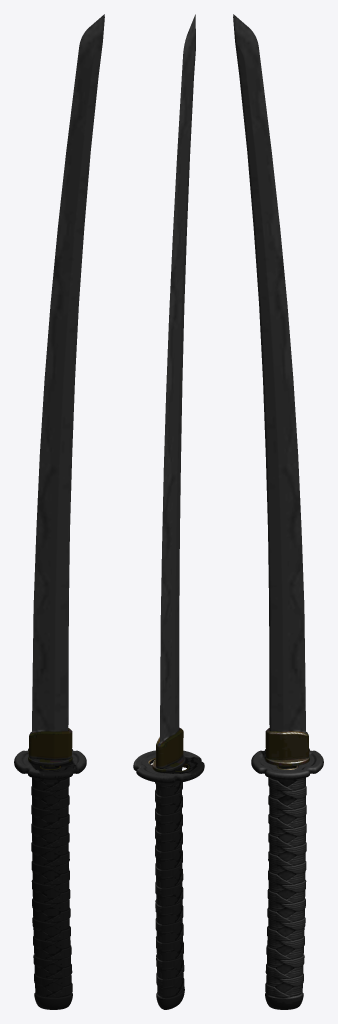
3 views of the same model, side by side, from view 1: azimuth 90°, elevation 25°; view 2: azimuth 150°, elevation 25°; view 3: azimuth 270°, elevation 25° (orthographic). The views are drawn at different scales.
Parts seen in each view (by area): view 1: submesh_00_LOD_1; view 2: submesh_00_LOD_1; view 3: submesh_00_LOD_1.
Boxes of the visible parts, box(x1,y1,x2,y2) form: submesh_00_LOD_1: box(14, 14, 104, 1009); submesh_00_LOD_1: box(133, 14, 204, 1009); submesh_00_LOD_1: box(233, 14, 323, 1009).
Bounding box in the file's own units: 0.0762 × 1.15 × 0.0952.
1 material, 1 textured.
